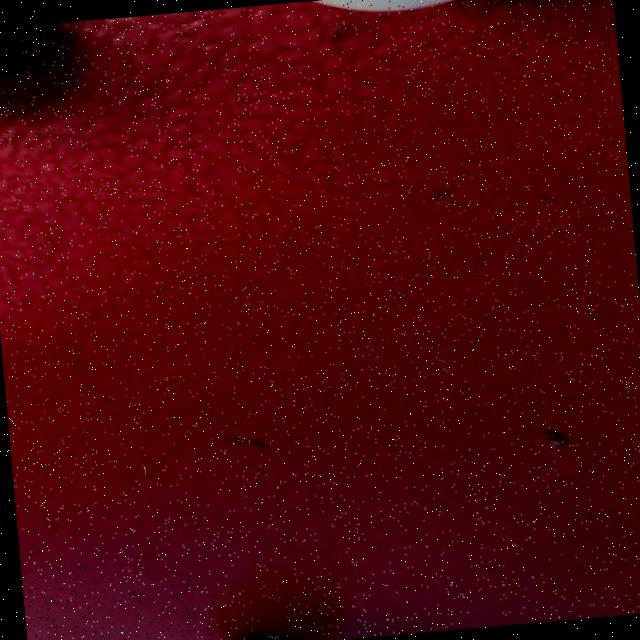ping-pong-ball: (120, 620, 325, 640)
